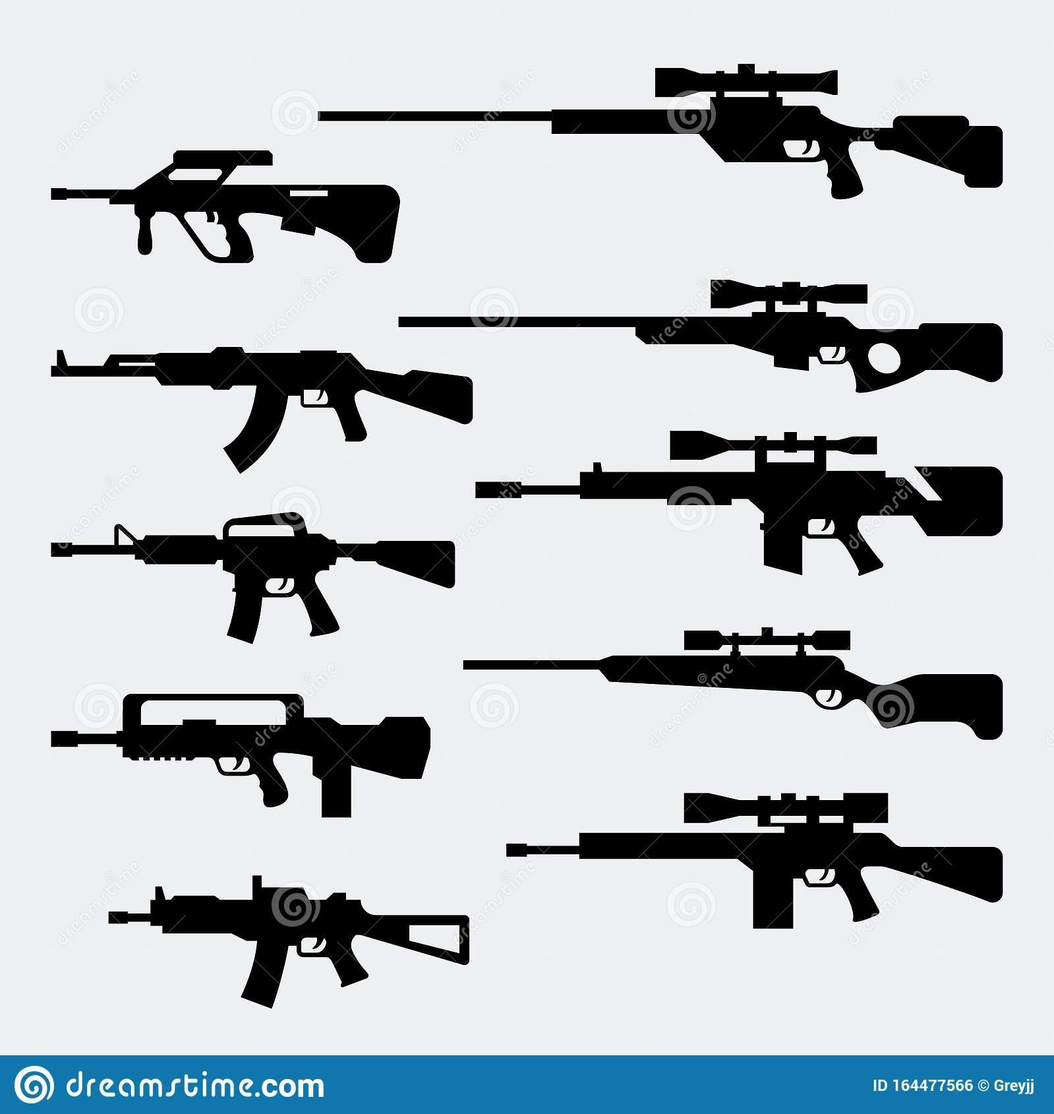gun: (317, 55, 1002, 201), (468, 423, 1004, 584), (502, 781, 1004, 936), (458, 623, 1004, 758), (397, 275, 1006, 395), (48, 511, 456, 648), (52, 339, 476, 469), (45, 684, 434, 825), (108, 868, 467, 1008), (49, 141, 395, 269)
